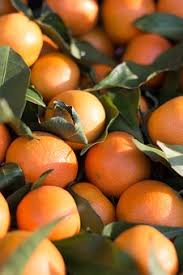orange: (86, 127, 153, 196), (7, 131, 79, 190), (14, 186, 80, 246), (39, 89, 107, 147), (116, 181, 182, 239), (34, 44, 83, 96)
